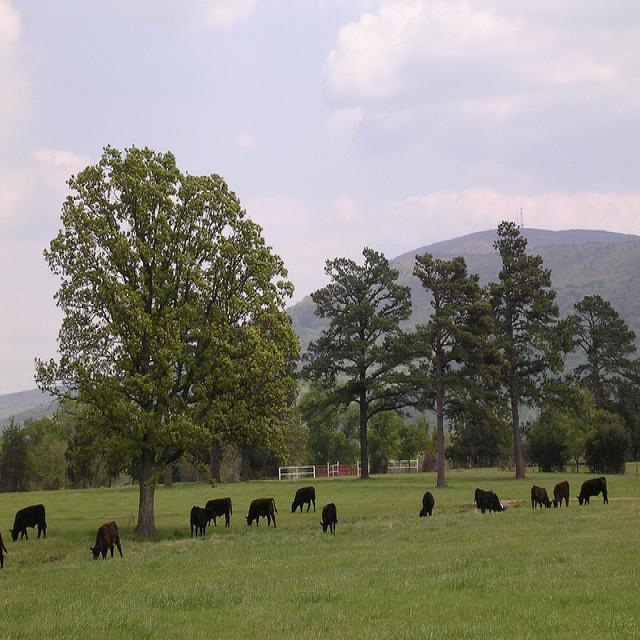cow: (7, 503, 46, 540), (88, 520, 122, 557), (243, 495, 278, 527), (202, 494, 232, 526), (188, 503, 215, 536), (472, 485, 504, 512), (289, 483, 314, 511), (529, 483, 552, 508), (319, 500, 336, 533), (417, 489, 434, 515), (553, 483, 570, 505)
